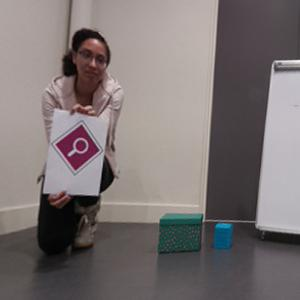search: (52, 120, 103, 173)
